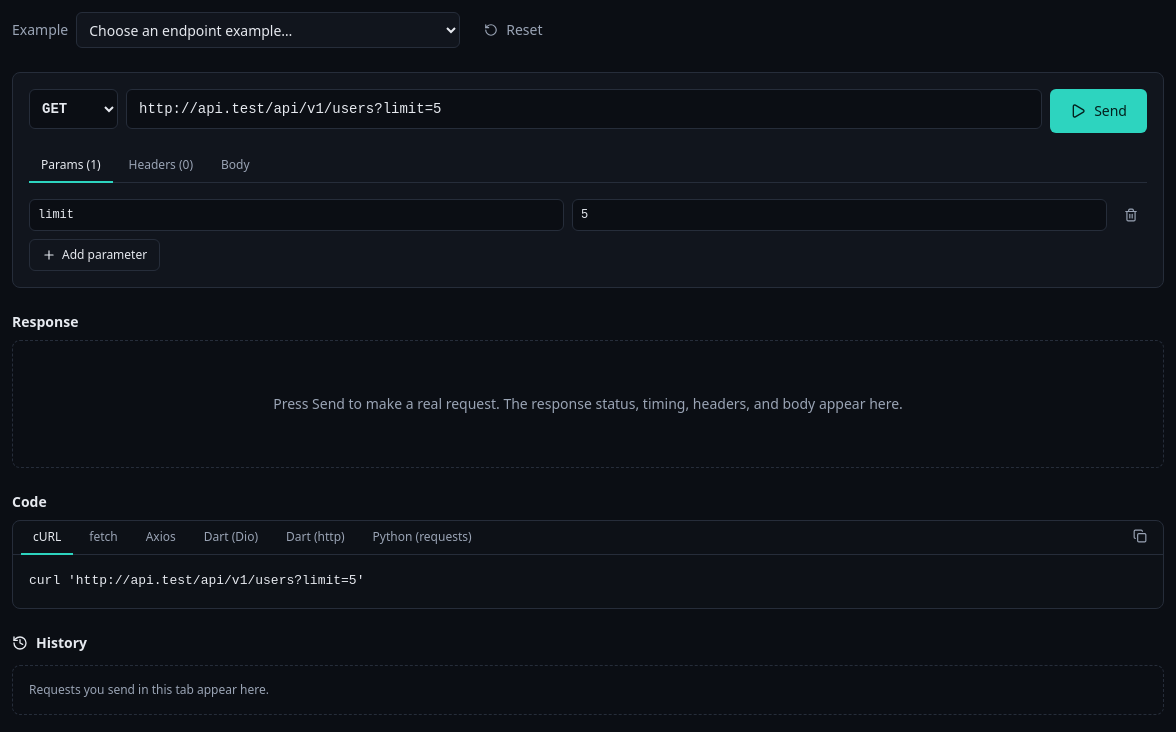
it: Playground › replaces token placeholders with a fresh demo token before sending
The width and height of the screenshot is (1176, 732).
Select "GET /auth/me - Get the current user" in the dropdown labelled "Example" at (268, 30), box [76,12,460,48]
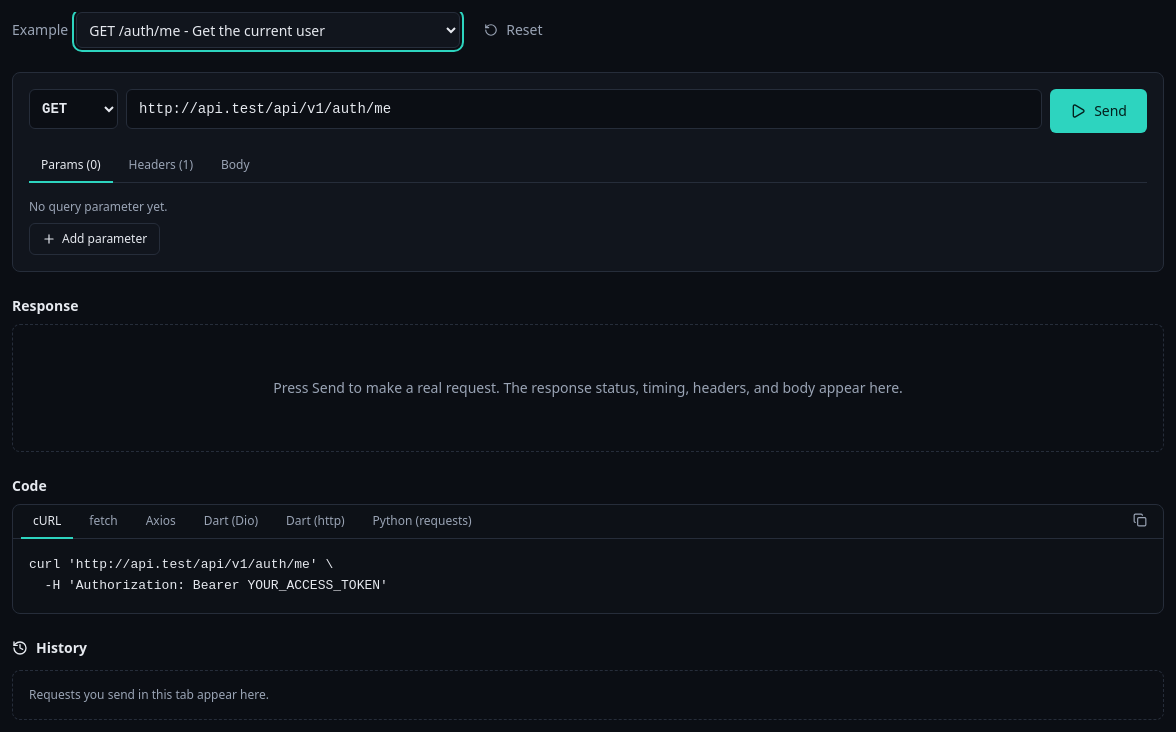
Click the button "Send".
click(1099, 111)  # box [1050,89,1147,133]
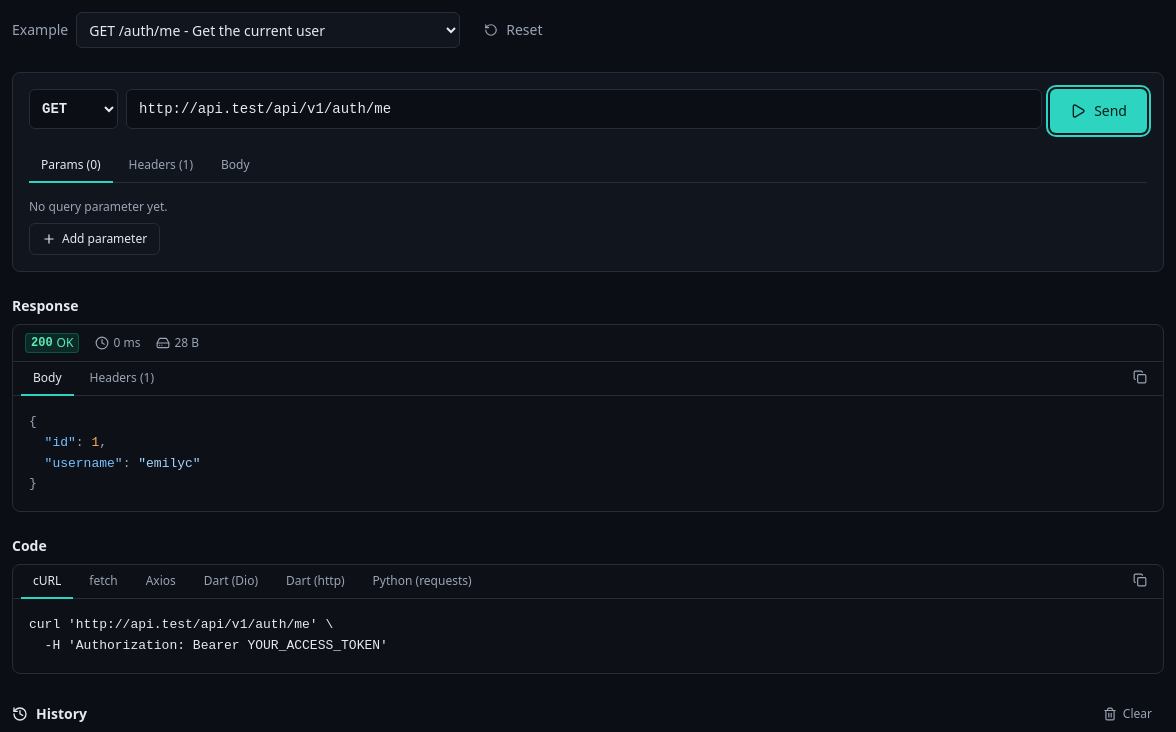
Expected: the text "\"emilyc\"" is shown, [138,456,201,471]
